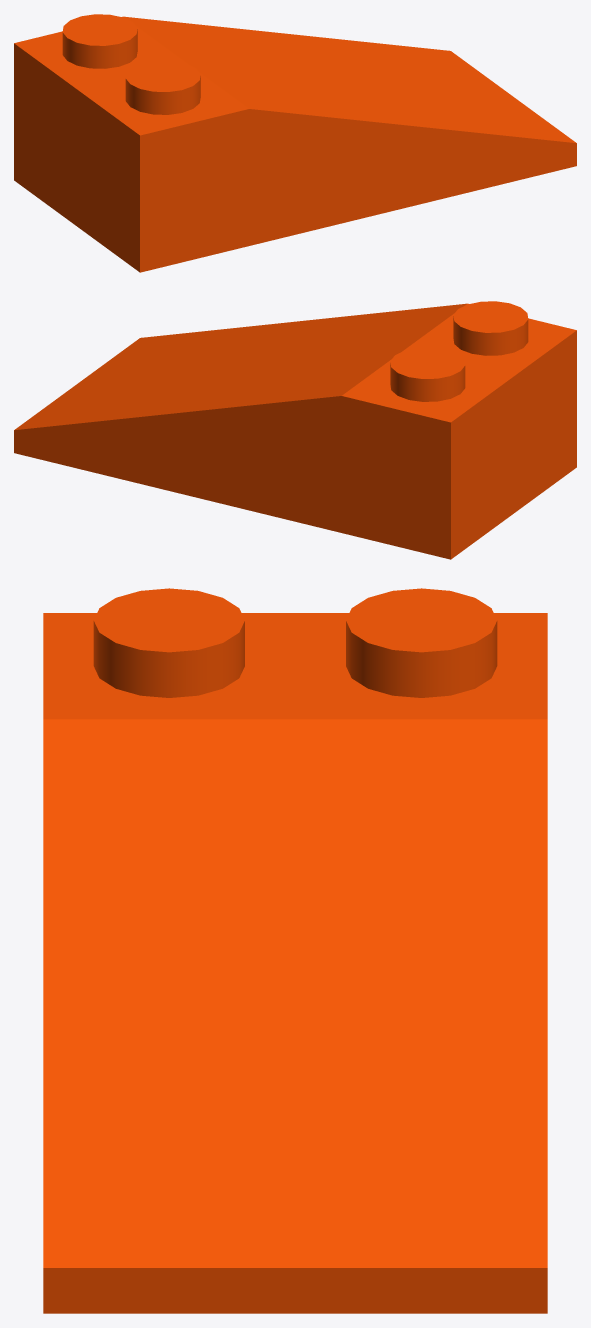
The model's file is slope_4x2_30363.glb.
3 renders of one model, top to bottom at view 1: azimuth 30°, elevation 25°; view 2: azimuth 150°, elevation 25°; view 3: azimuth 270°, elevation 25°, orthographic. The views are drawn at different scales.
Visible parts, largest first — view 1: 00001_30363.dat.001; view 2: 00001_30363.dat.001; view 3: 00001_30363.dat.001.
Part boxes in pixels (<box>): 00001_30363.dat.001: <box>14,14,576,272</box>; 00001_30363.dat.001: <box>14,301,576,559</box>; 00001_30363.dat.001: <box>43,588,547,1313</box>.
Bounding box in the file's own units: 3 × 1.05 × 1.5.
